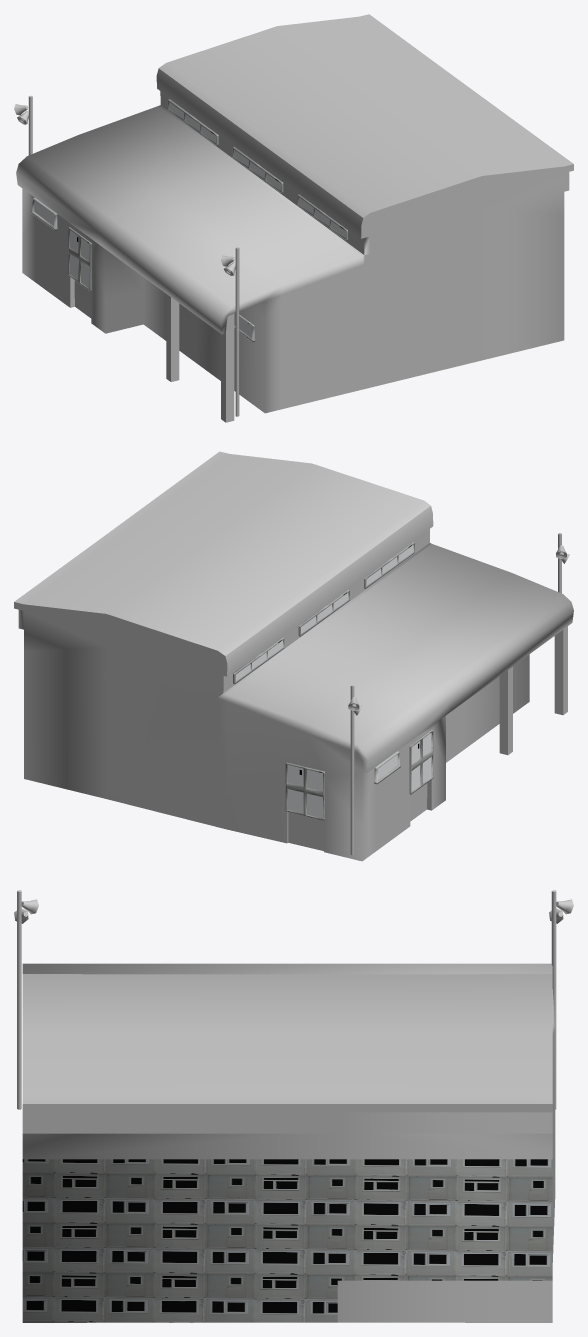
File: SM_ARC_CommunityCentre_A_01.fbx
3 views of the same model, one above another, from view 1: azimuth 30°, elevation 25°; view 2: azimuth 150°, elevation 25°; view 3: azimuth 270°, elevation 25° (orthographic). The views are drawn at different scales.
Parts seen in each view (by area): view 1: SM_ARC_CommunityCentre_A_01; view 2: SM_ARC_CommunityCentre_A_01; view 3: SM_ARC_CommunityCentre_A_01.
Boxes of the visible parts, x1=… form: SM_ARC_CommunityCentre_A_01: x1=14, y1=14, x2=573, y2=422; SM_ARC_CommunityCentre_A_01: x1=14, y1=451, x2=573, y2=861; SM_ARC_CommunityCentre_A_01: x1=14, y1=890, x2=573, y2=1322.
Bounding box in the file's own units: 1876 × 1991 × 938.
